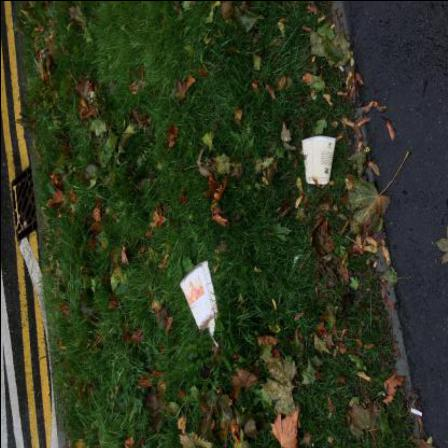Cup: (180, 261, 219, 347), (302, 136, 336, 185)
Unlabeled litter: (410, 409, 422, 417)
